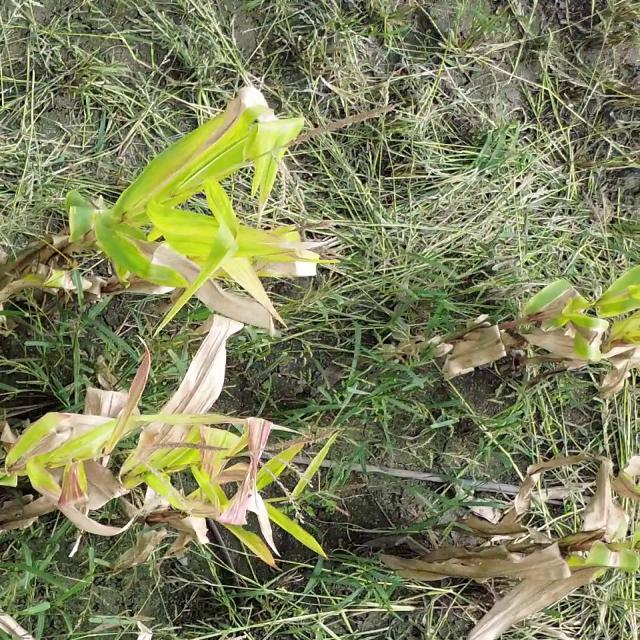northern-leaf-blight: (222, 522, 284, 579)
